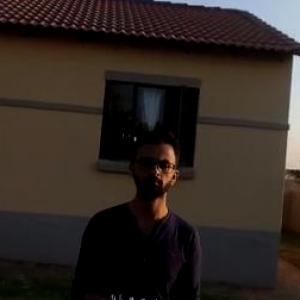follow: (69, 121, 210, 299)
